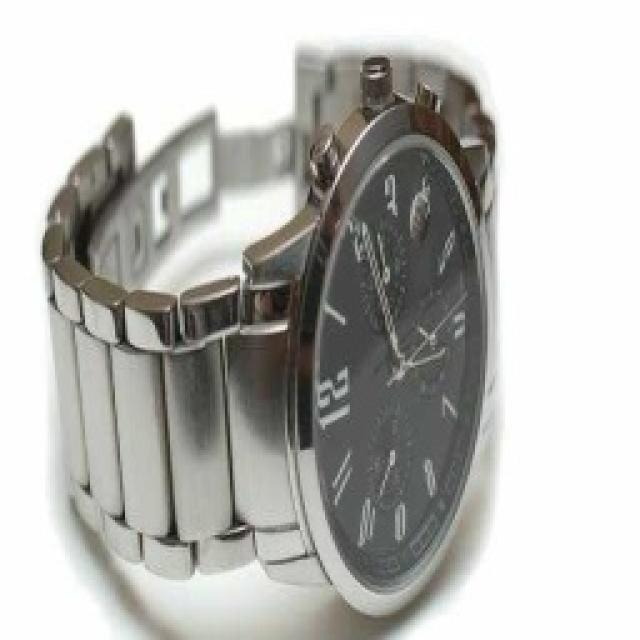saat: (30, 31, 588, 630)
